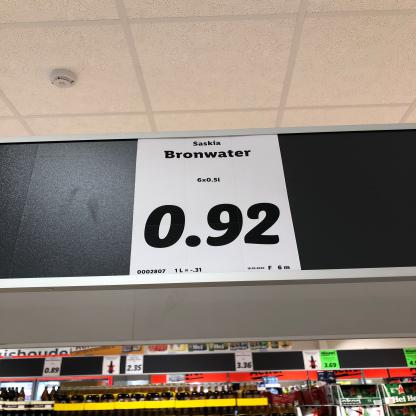prtg: (131, 135, 304, 276)
